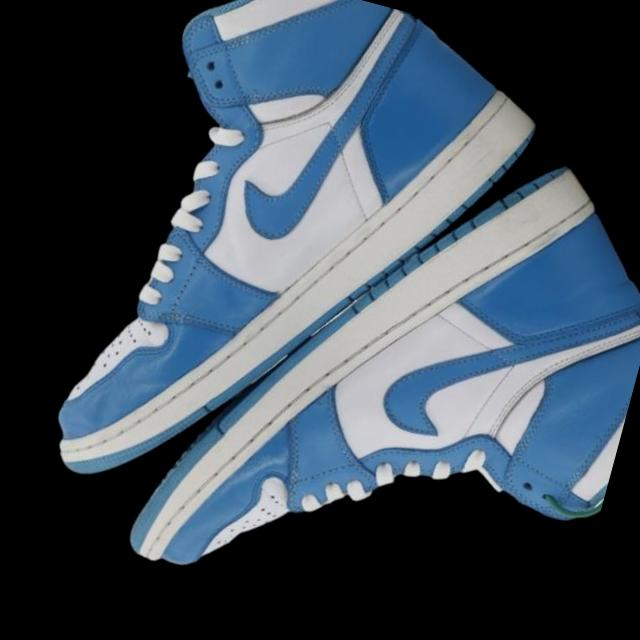nike_original_jordan: (43, 26, 640, 640), (0, 0, 593, 611)
